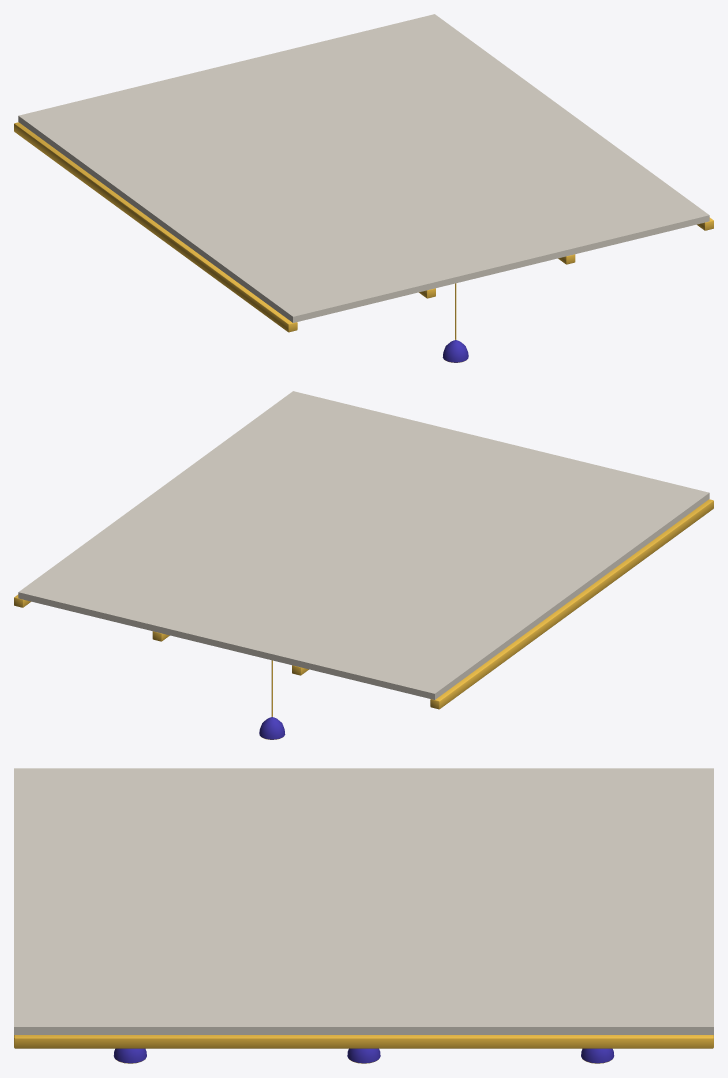
Rendered from CeilingRoyal.fbx.
The picture shows the model from 3 angles, top to bottom: view 1: azimuth 30°, elevation 25°; view 2: azimuth 150°, elevation 25°; view 3: azimuth 270°, elevation 25°; orthographic projection. The views are drawn at different scales.
Parts seen in each view (by area): view 1: CeilingRoyal; view 2: CeilingRoyal; view 3: CeilingRoyal.
Boxes of the visible parts, x1,y1,x2,y2 form: CeilingRoyal: (14,14,713,362); CeilingRoyal: (14,391,713,739); CeilingRoyal: (14,768,713,1063).
Bounding box in the file's own units: 7160 × 2020 × 8000.
